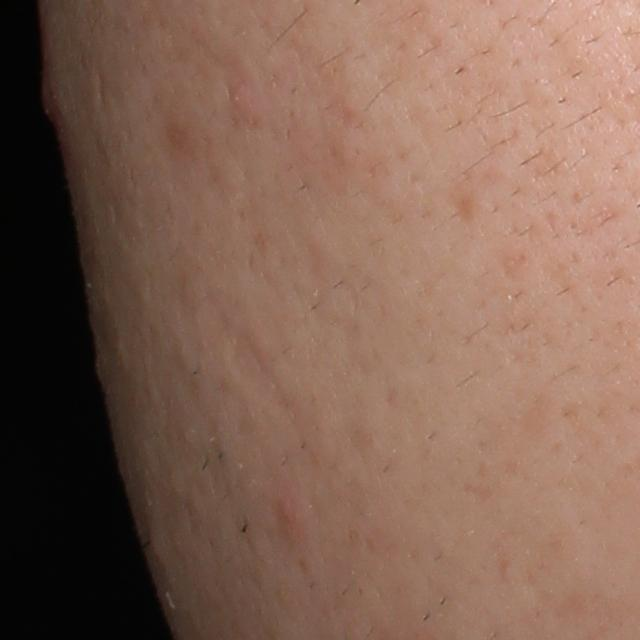papule: (272, 485, 307, 532)
